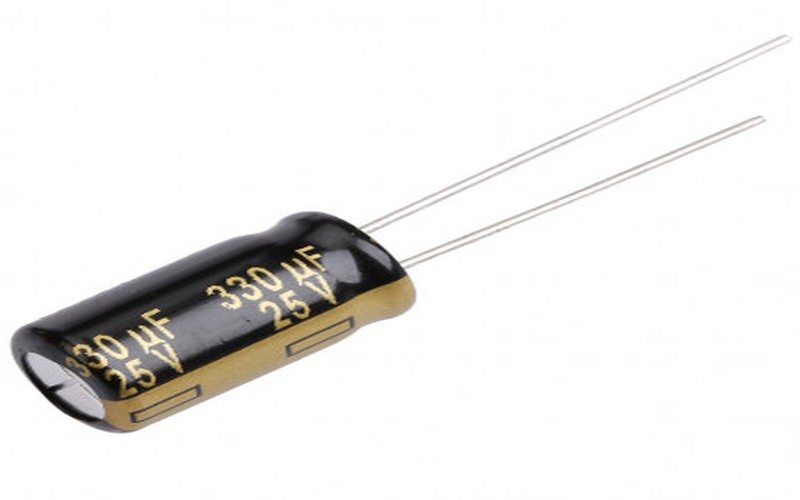Capacitor: (0, 31, 800, 452)
